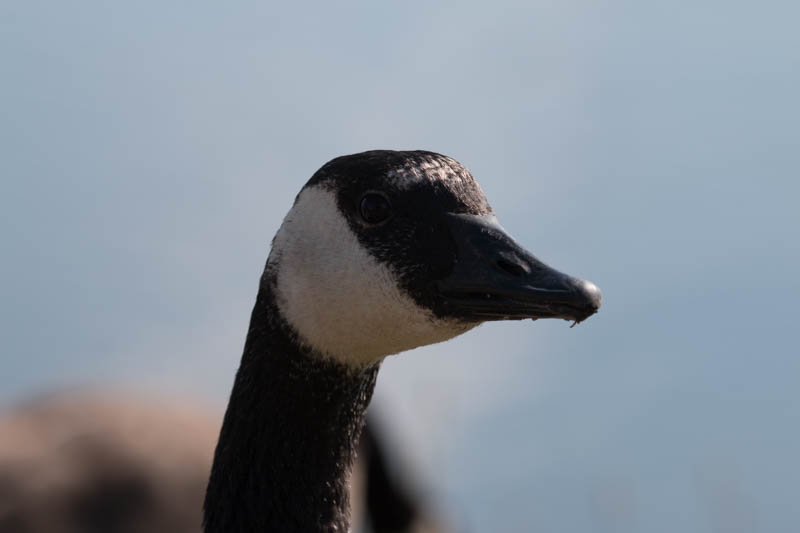goose-head: (261, 149, 602, 372)
